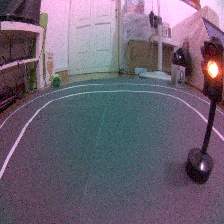amber: (185, 36, 222, 186)
